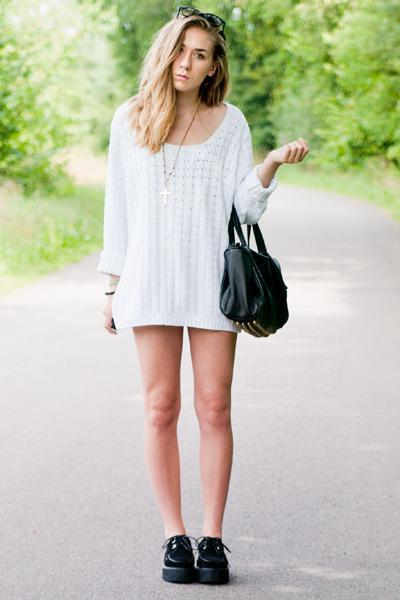bag: (221, 204, 288, 337)
jacket: (97, 101, 276, 347)
shoe: (163, 537, 229, 584)
